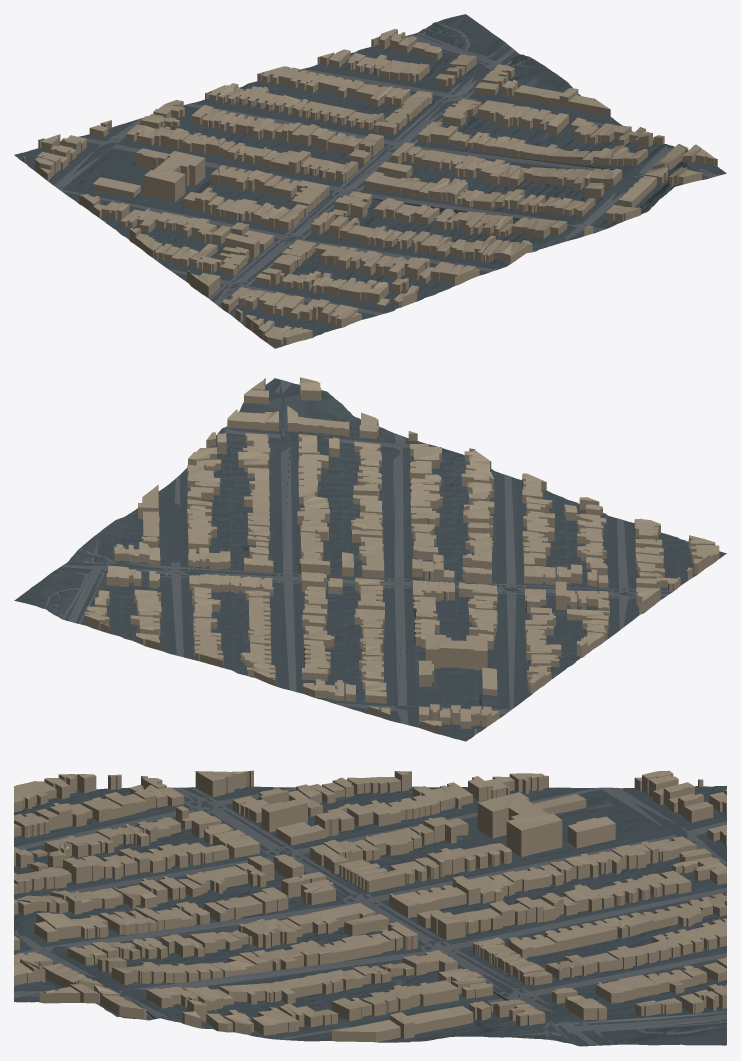
File: epsg26910-1433-10872.lod0.glb
3 views of the same model, one above another, from view 1: azimuth 30°, elevation 25°; view 2: azimuth 150°, elevation 25°; view 3: azimuth 270°, elevation 25° (orthographic). The views are drawn at different scales.
Parts seen in each view (by area): view 1: epsg26910-1433-10872-lod0; view 2: epsg26910-1433-10872-lod0; view 3: epsg26910-1433-10872-lod0.
Boxes of the visible parts, x1,y1,x2,y2 form: epsg26910-1433-10872-lod0: (14, 14, 726, 348); epsg26910-1433-10872-lod0: (14, 377, 726, 741); epsg26910-1433-10872-lod0: (14, 770, 726, 1046).
Bounding box in the file's own units: 384 × 60.16 × 384.
